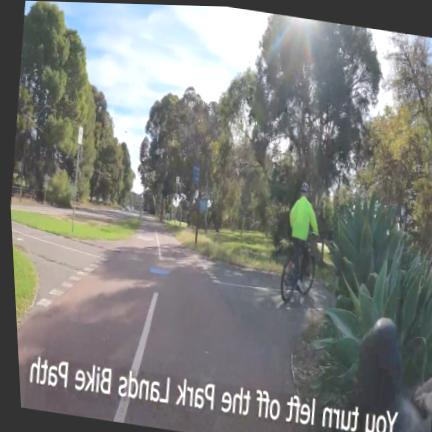Bike_Lane: (17, 219, 309, 432)
